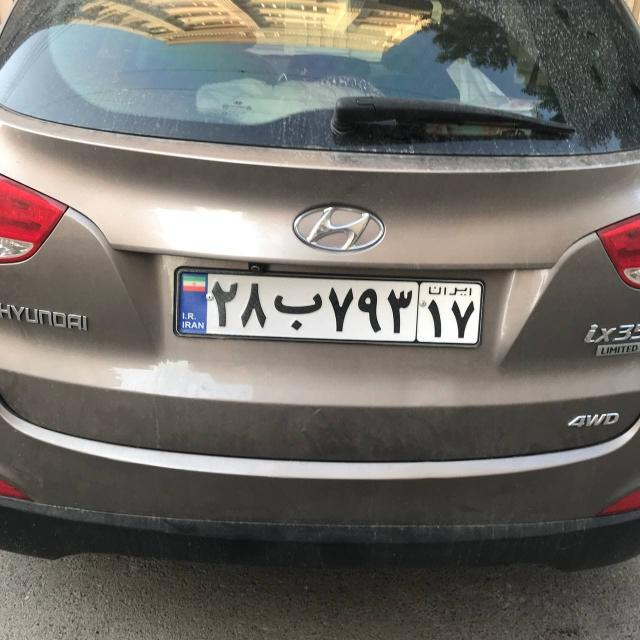Plates: (178, 271, 483, 347)
